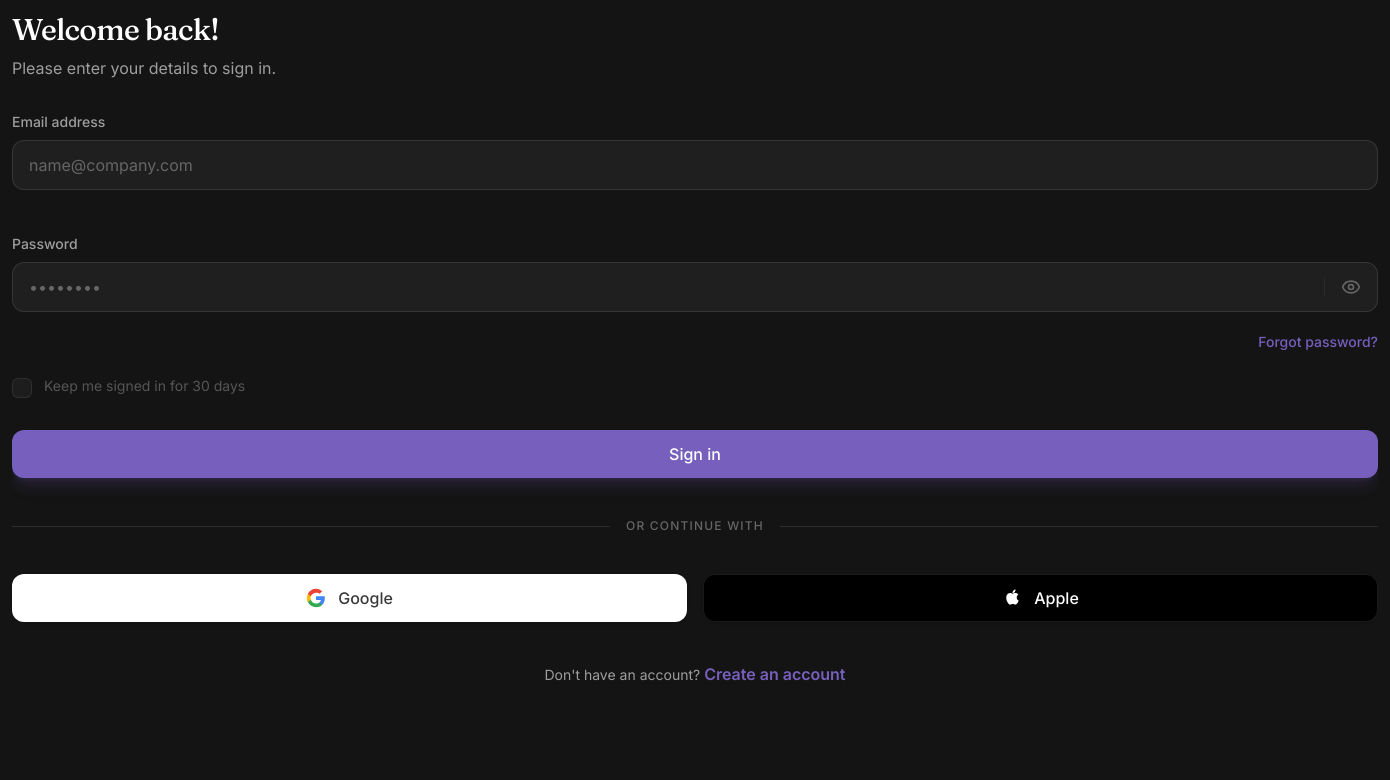
Scenario: LoginForm › hides Coming soon toast after closing it
Click the button "Apple": (1040,598) [703,574,1378,622]
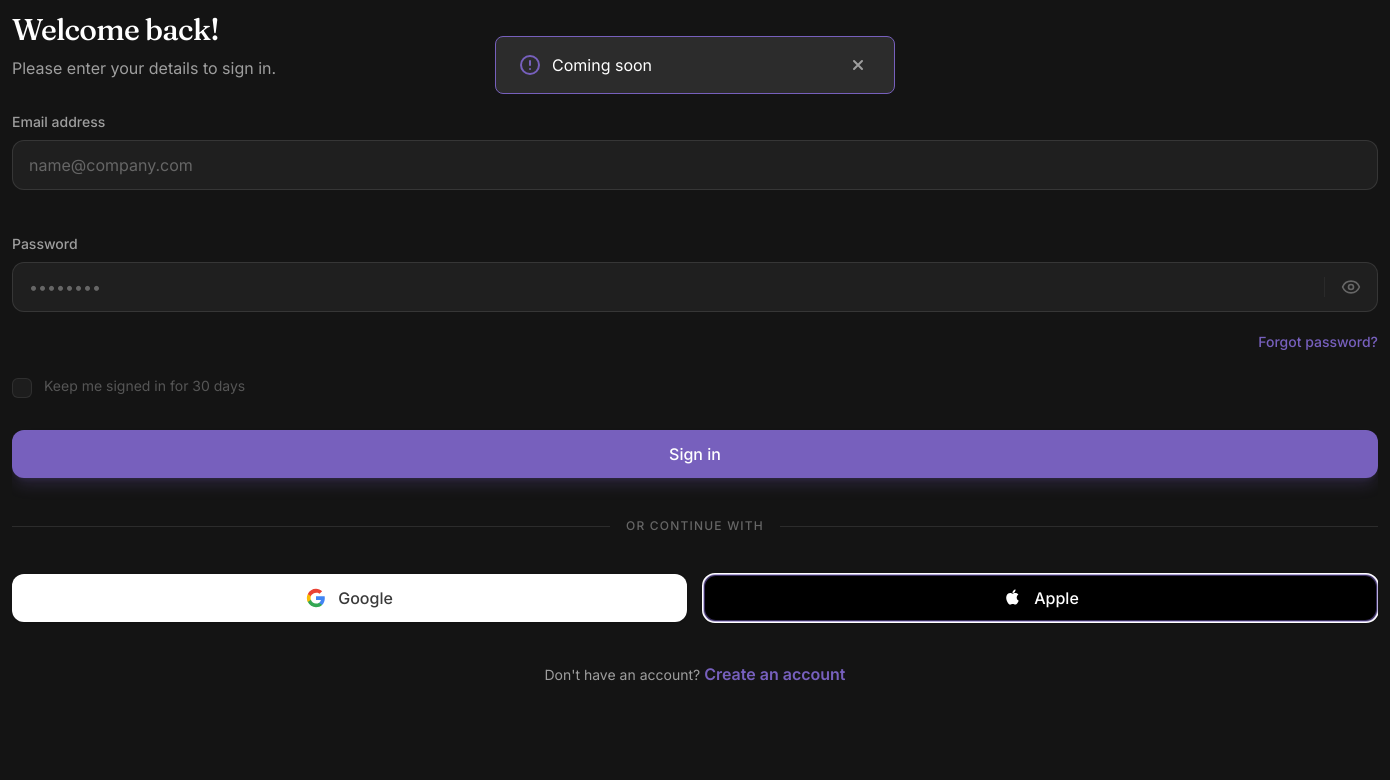
Click the button named "Close notification": (858,65) [846,53,870,77]
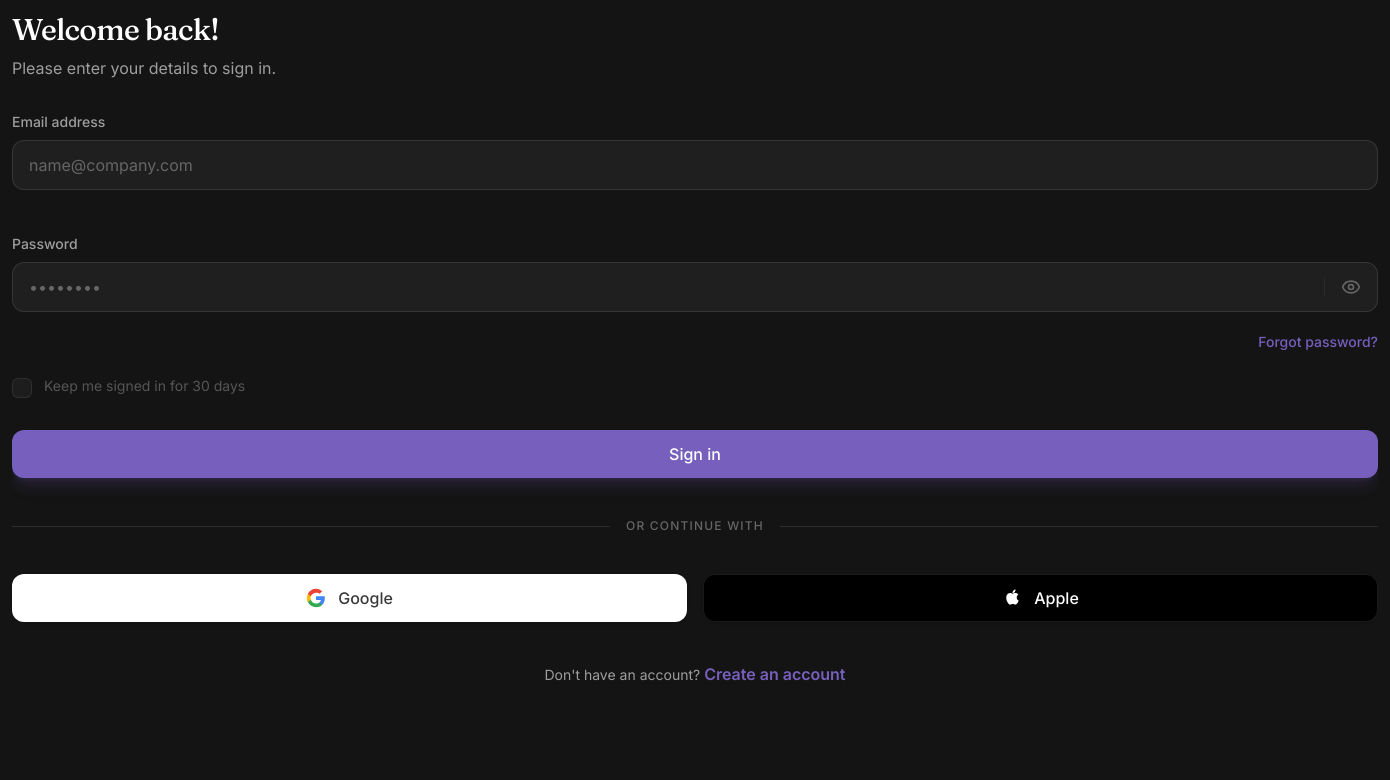
Expected: the text "Coming soon" is gone
